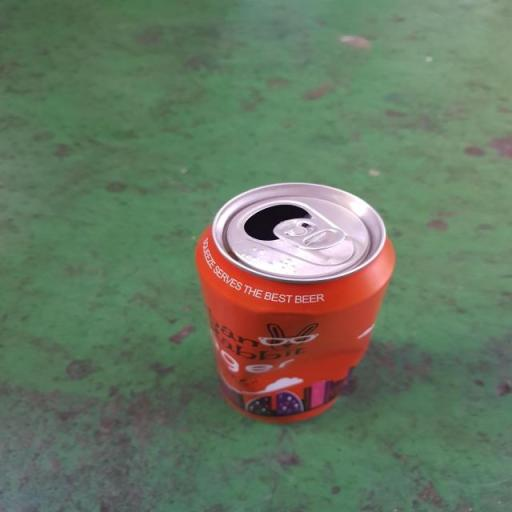metal: (154, 160, 430, 440)
